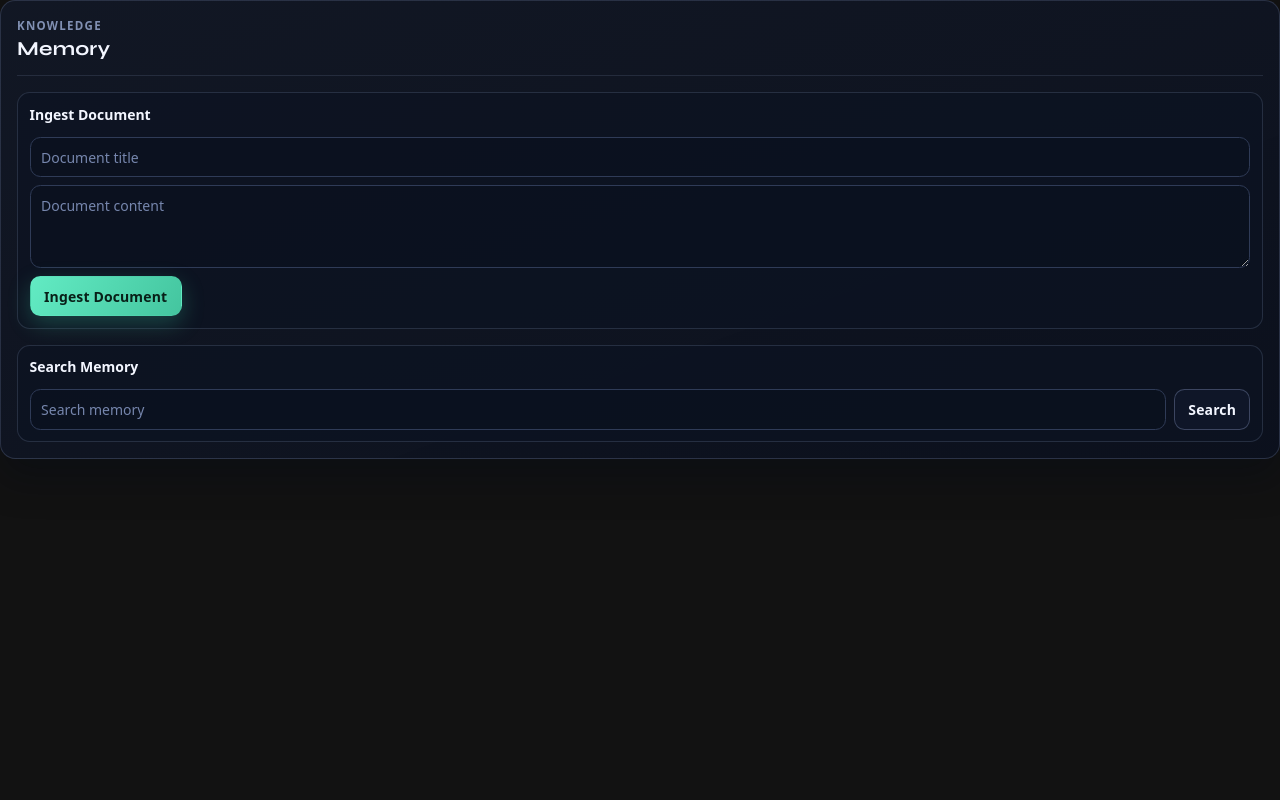
Test: MemoryPanel › ingests documents and searches memory
Step 1. Type "Spec" into the field with placeholder "Document title" → (640, 157), box [30,137,1250,177]
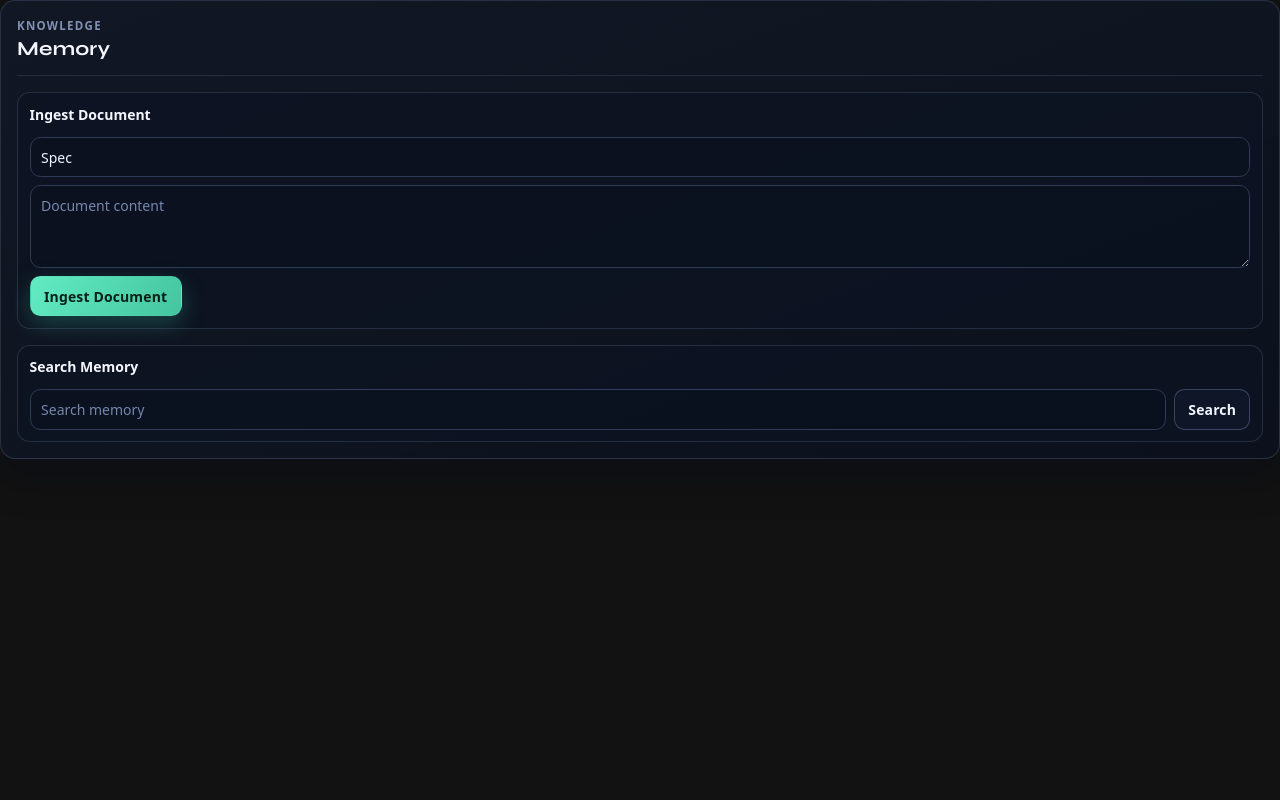
Step 2. Type "agent platform" into the text box with placeholder "Document content" → (640, 227), box [30,185,1250,268]
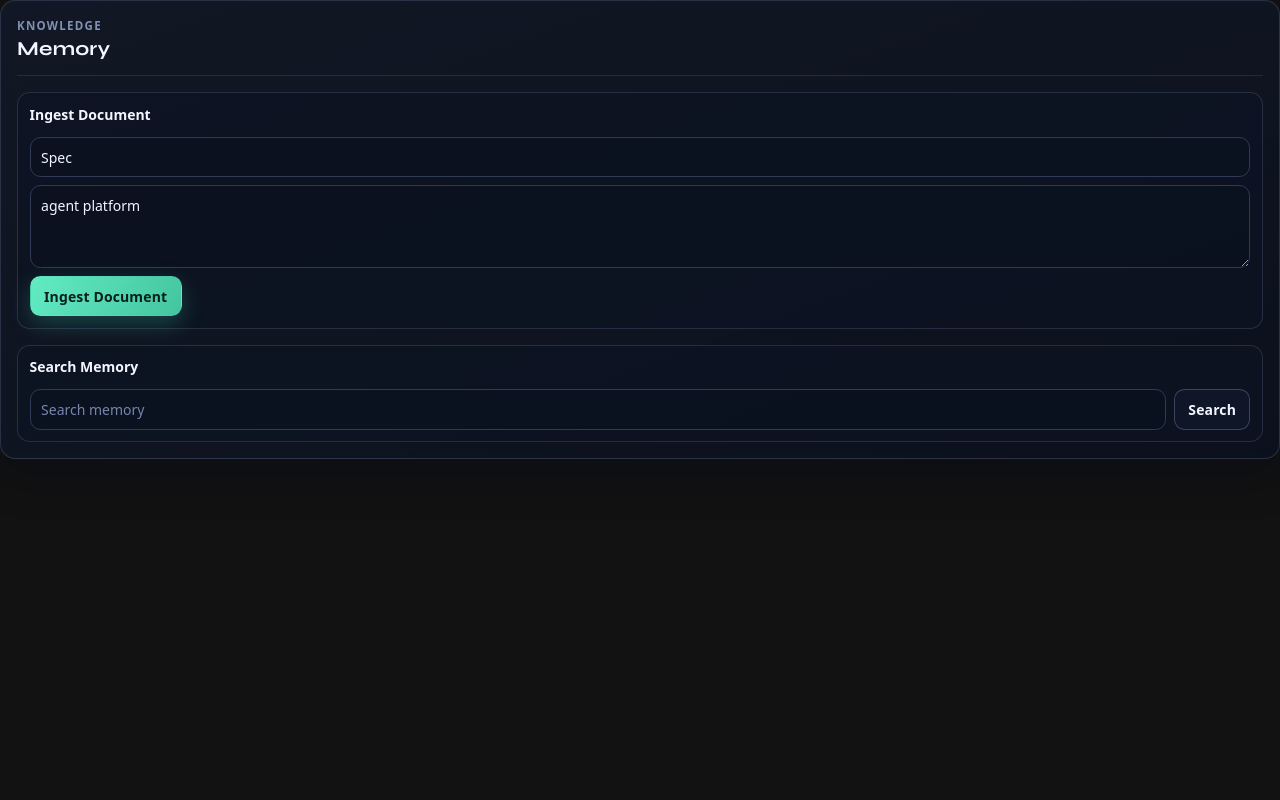
Step 3. Click the button "Ingest Document" → (106, 296), box [30,276,182,316]
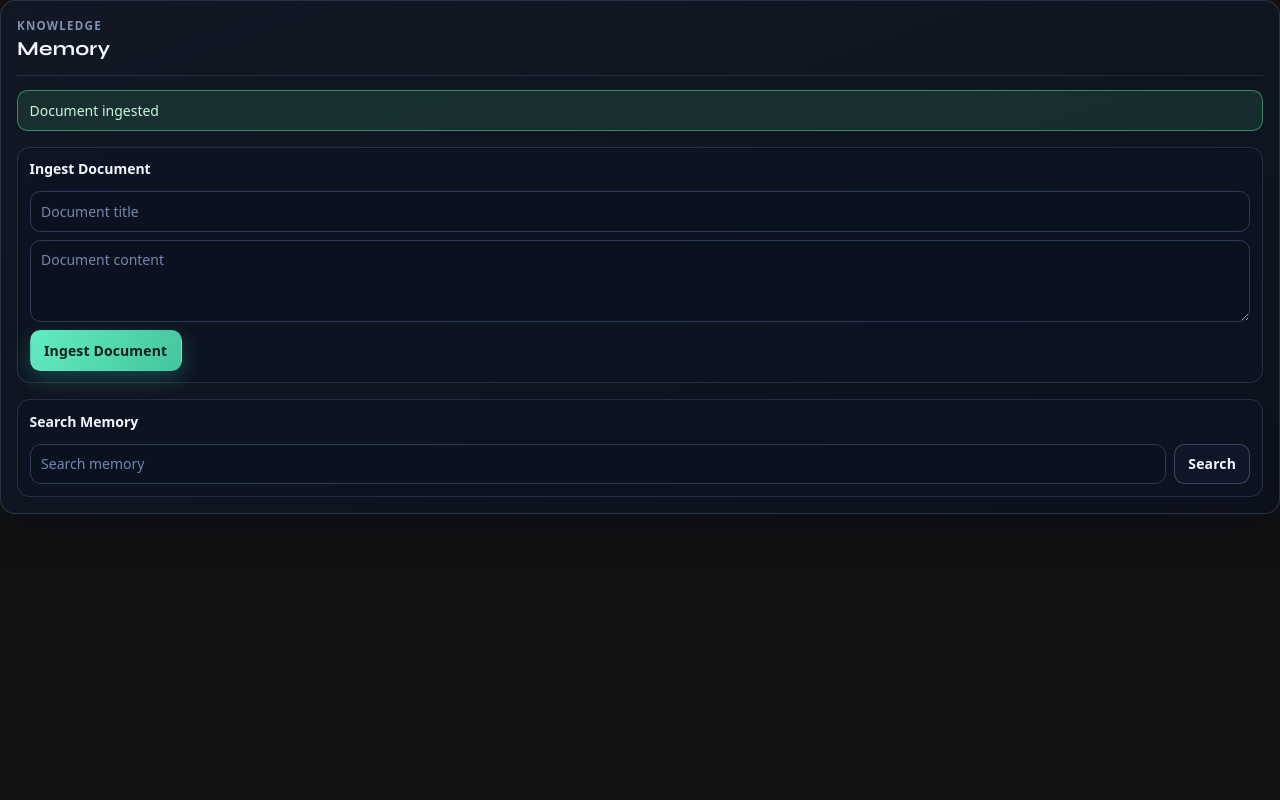
Expected: the text "Document ingested" is shown, [17,90,1263,131]
Step 4. Type "agent" into the field with placeholder "Search memory" → (598, 464), box [30,444,1166,484]
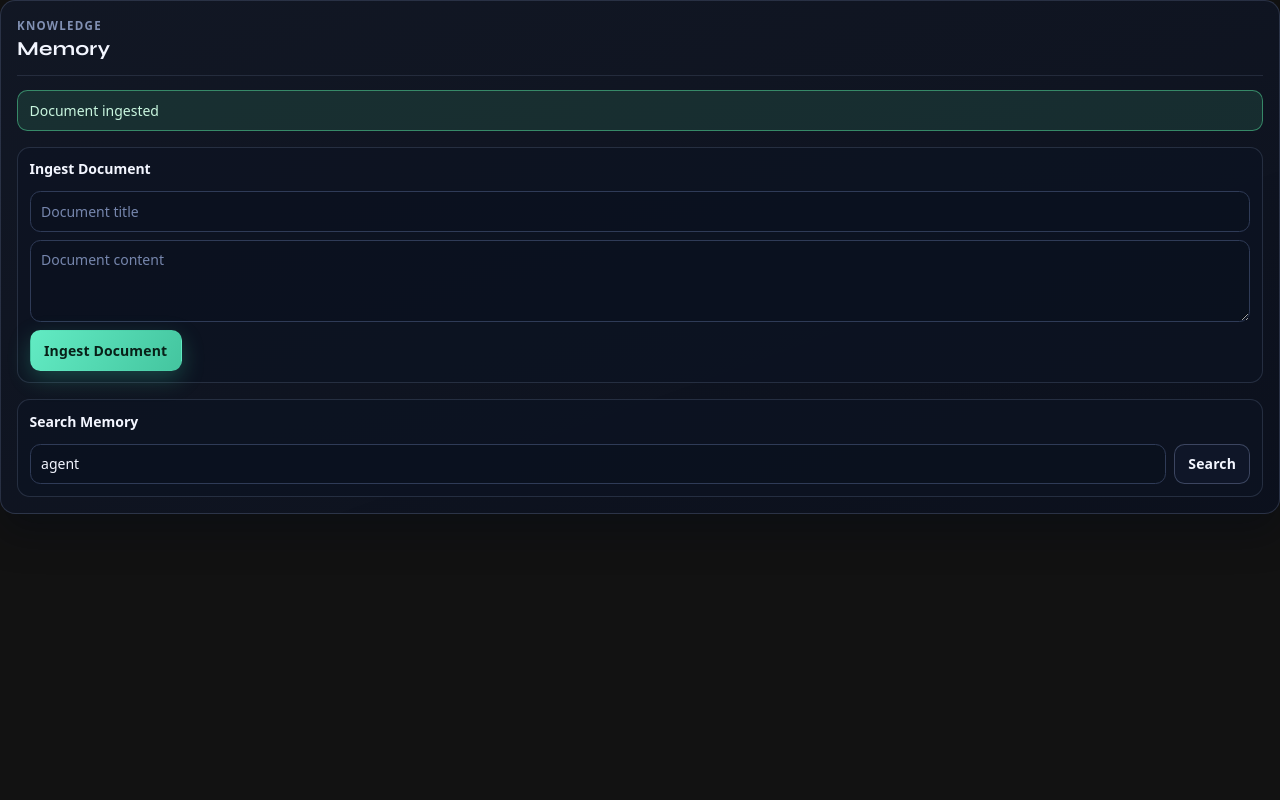
Step 5. Click the button "Search" → (1212, 464), box [1174,444,1250,484]
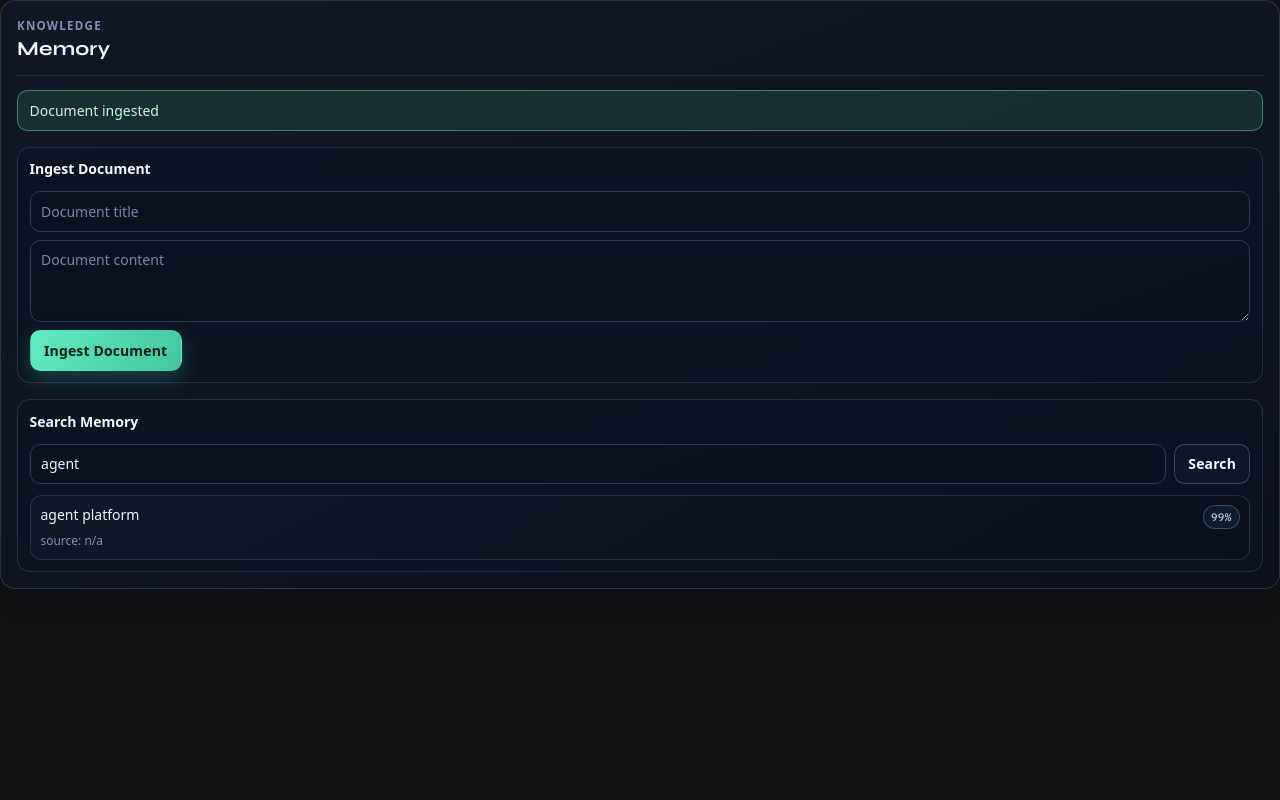
Expected: the text "agent platform" is shown, [40,505,139,524]
Expected: the text "99%" is shown, [1203,505,1240,529]
Expected: the text "source: n/a" is shown, [40,532,103,549]
